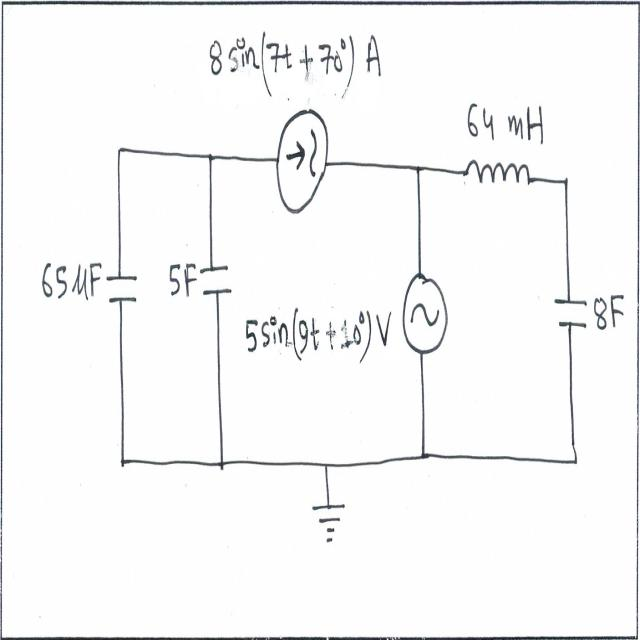ac_current: (401, 258, 451, 366)
capacitor: (552, 282, 591, 344), (197, 256, 235, 308), (103, 264, 142, 310)
current_source: (271, 98, 334, 223)
ground: (308, 492, 349, 560)
inductor: (457, 147, 539, 202)
